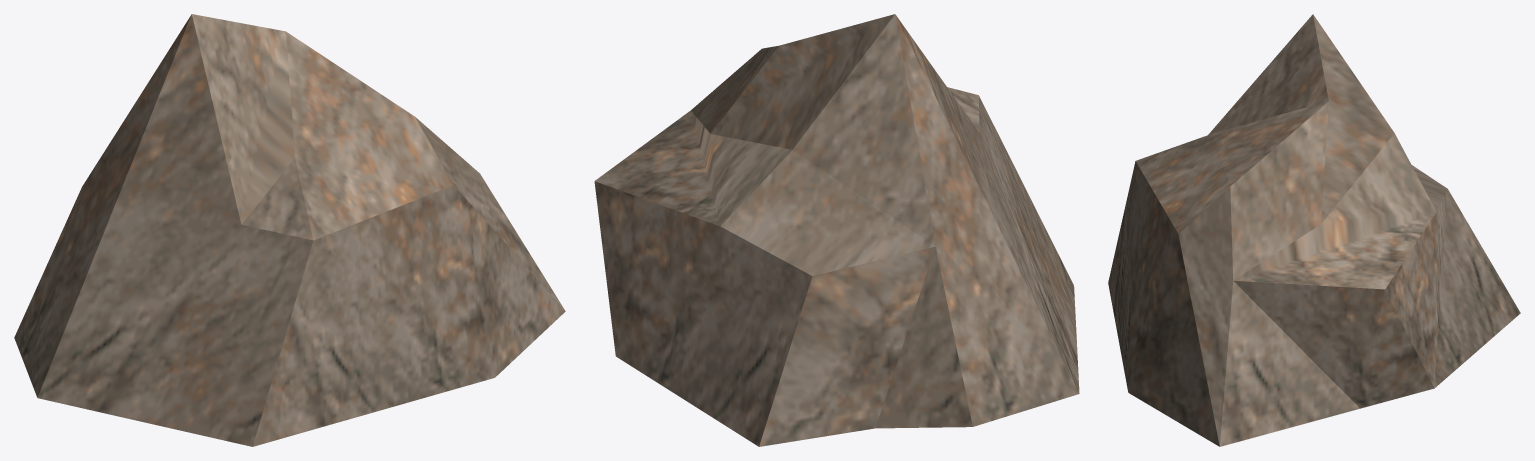
File: rockSmallBrown.fbx
The picture shows the model from 3 angles, left to right: view 1: azimuth 30°, elevation 25°; view 2: azimuth 150°, elevation 25°; view 3: azimuth 270°, elevation 25°; orthographic projection. The views are drawn at different scales.
Parts seen in each view (by area): view 1: rockSmall2; view 2: rockSmall2; view 3: rockSmall2.
Part boxes in pixels (x1,y1,x2,y2): rockSmall2: (14, 14, 565, 446); rockSmall2: (594, 14, 1079, 446); rockSmall2: (1108, 14, 1520, 446).
Bounding box in the file's own units: 2.47 × 2.06 × 1.65.
1 material, 1 textured.
